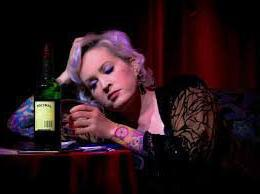Drunk: (80, 52, 137, 106)
